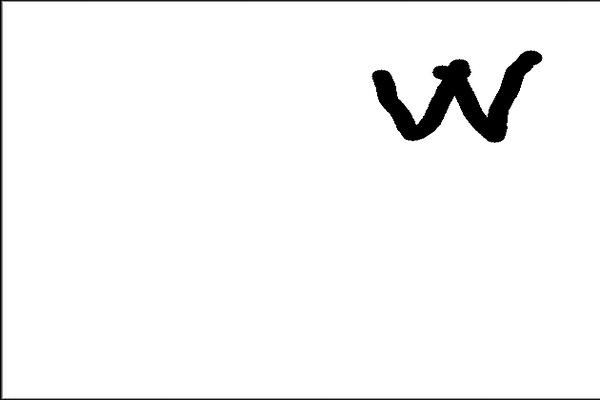w: (359, 35, 555, 158)
